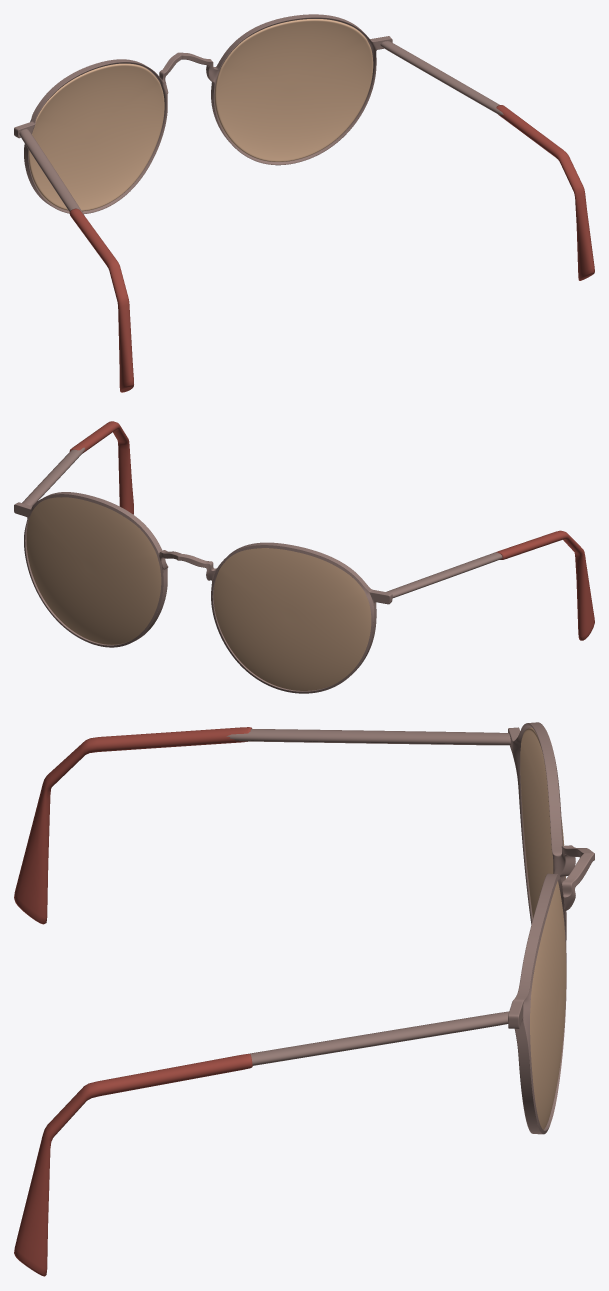
The model's file is round_sunglasses.fbx.
3 views of the same model, one above another, from view 1: azimuth 30°, elevation 25°; view 2: azimuth 150°, elevation 25°; view 3: azimuth 270°, elevation 25° (orthographic). The views are drawn at different scales.
Parts seen in each view (by area): view 1: lens.003; view 2: lens.003; view 3: lens.003.
Boxes of the visible parts, x1,y1,x2,y2 form: lens.003: (14, 14, 594, 392); lens.003: (14, 421, 594, 693); lens.003: (14, 722, 594, 1276).
Bounding box in the file's own units: 16.91 × 6.14 × 11.47.
